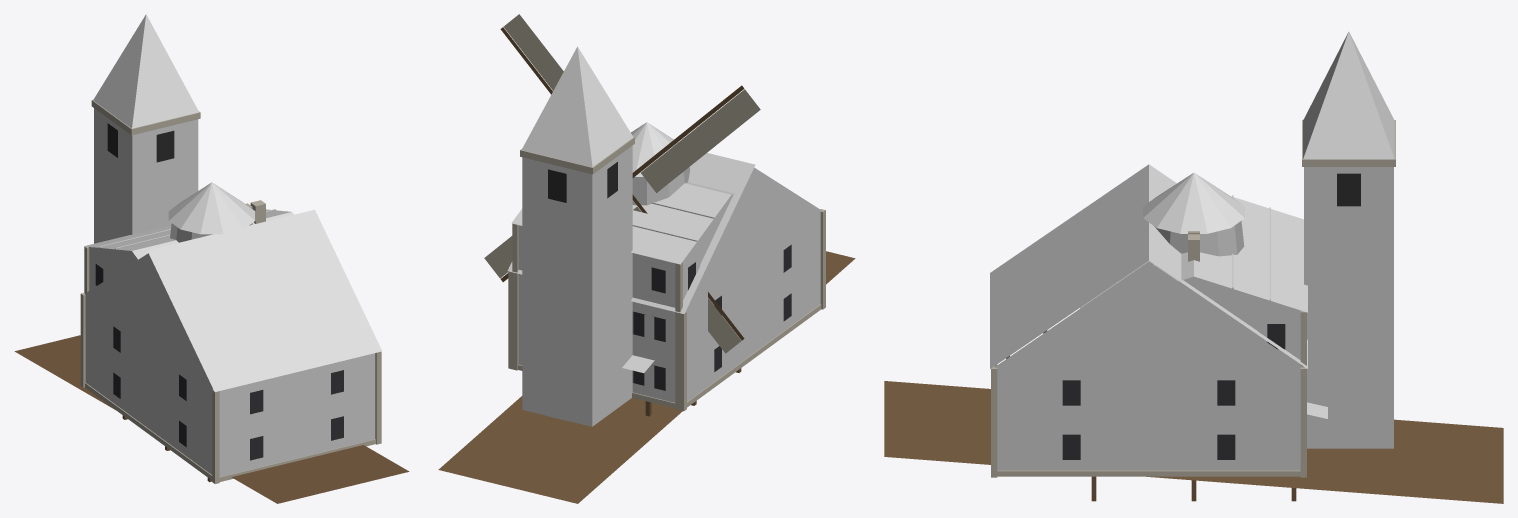
Rendered from sandy.glb.
The picture shows the model from 3 angles, left to right: view 1: azimuth 30°, elevation 25°; view 2: azimuth 150°, elevation 25°; view 3: azimuth 270°, elevation 25°; orthographic projection. The views are drawn at different scales.
Parts seen in each view (by area): view 1: church, shipyard-slip, windmill, merchants-house; view 2: church, shipyard-slip, merchants-house, windmill; view 3: church, shipyard-slip, merchants-house, windmill.
Boxes of the visible parts, left/top/right/bottom form: church: left=80, top=14, right=381, bottom=483; shipyard-slip: left=14, top=335, right=409, bottom=503; windmill: left=168, top=182, right=255, bottom=242; merchants-house: left=84, top=200, right=293, bottom=293; church: left=507, top=46, right=825, bottom=426; shipyard-slip: left=438, top=251, right=855, bottom=503; merchants-house: left=511, top=182, right=736, bottom=409; windmill: left=484, top=14, right=760, bottom=353; church: left=990, top=31, right=1395, bottom=477; shipyard-slip: left=884, top=330, right=1503, bottom=503; merchants-house: left=1080, top=195, right=1327, bottom=418; windmill: left=1143, top=173, right=1244, bottom=256.
Size of the model in its own units: 17.82 by 24.5 by 31.
